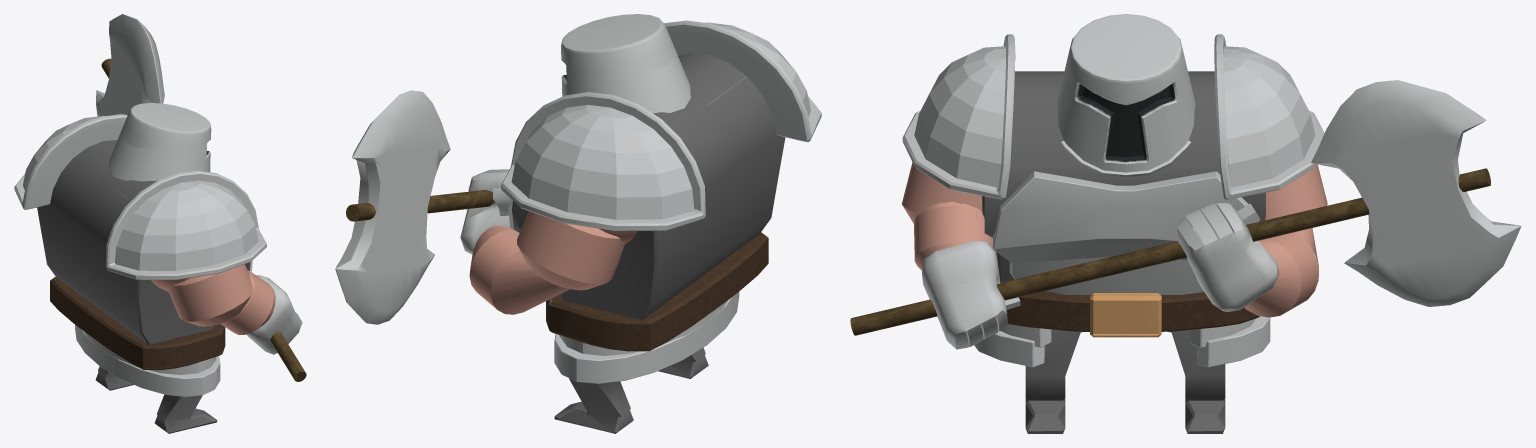
File: knight2.fbx
The picture shows the model from 3 angles, left to right: view 1: azimuth 30°, elevation 25°; view 2: azimuth 150°, elevation 25°; view 3: azimuth 270°, elevation 25°; orthographic projection. The views are drawn at different scales.
Visible parts, largest first — view 1: polySurface19; view 2: polySurface19; view 3: polySurface19.
Boxes of the visible parts, x1=… form: polySurface19: x1=14, y1=14, x2=306, y2=433; polySurface19: x1=335, y1=14, x2=821, y2=433; polySurface19: x1=850, y1=14, x2=1521, y2=433.
Bounding box in the file's own units: 8.15 × 11.87 × 18.44.
1 material, 1 textured.
